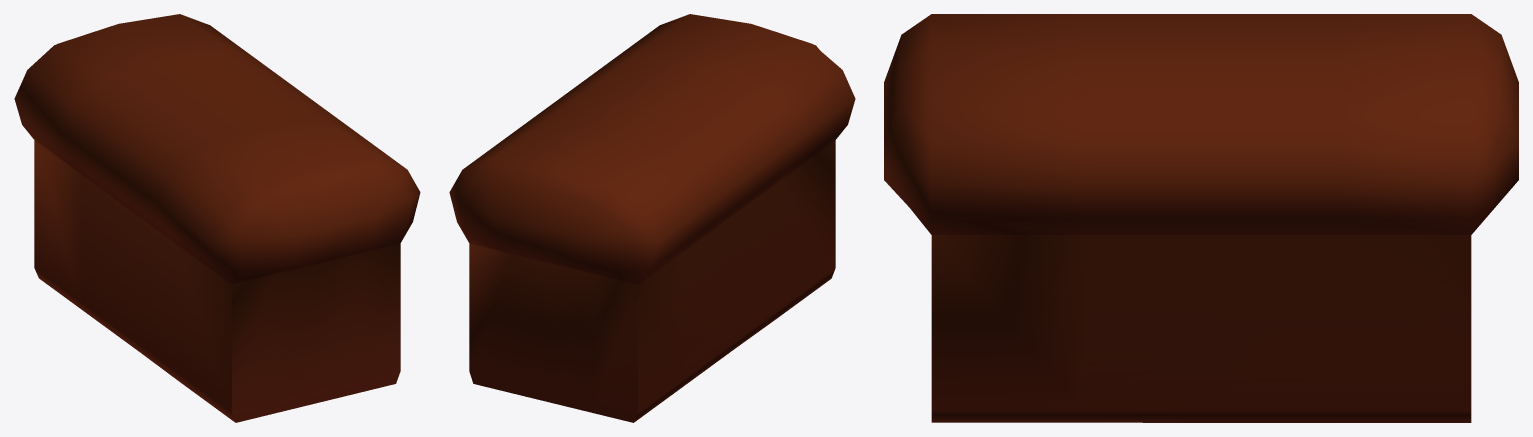
File: BreadLoaf_Regular.fbx
3 views of the same model, side by side, from view 1: azimuth 30°, elevation 25°; view 2: azimuth 150°, elevation 25°; view 3: azimuth 270°, elevation 25° (orthographic). The views are drawn at different scales.
Parts seen in each view (by area): view 1: BreadLoaf_Regular; view 2: BreadLoaf_Regular; view 3: BreadLoaf_Regular.
Part boxes in pixels (x1,y1,x2,y2): BreadLoaf_Regular: [14, 14, 420, 422]; BreadLoaf_Regular: [449, 14, 855, 422]; BreadLoaf_Regular: [884, 14, 1518, 422].
Bounding box in the file's own units: 42.97 × 46.25 × 82.78.
